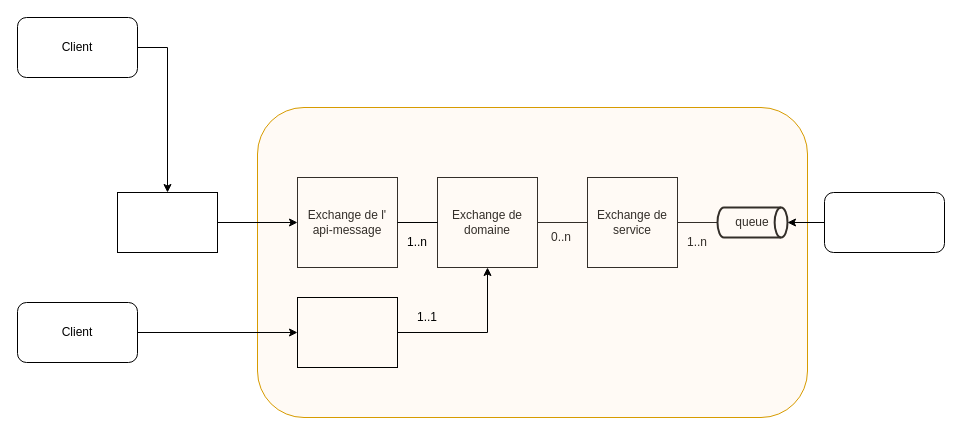
Some shapes in this 962 by 435 pixel diagram are drawn without their labels. Each missing label, with the centre of its shape:
"api-message" belongs at pixel 167 222.
"consumer4" belongs at pixel 884 222.
"Exchange spécifique" belongs at pixel 347 332.
